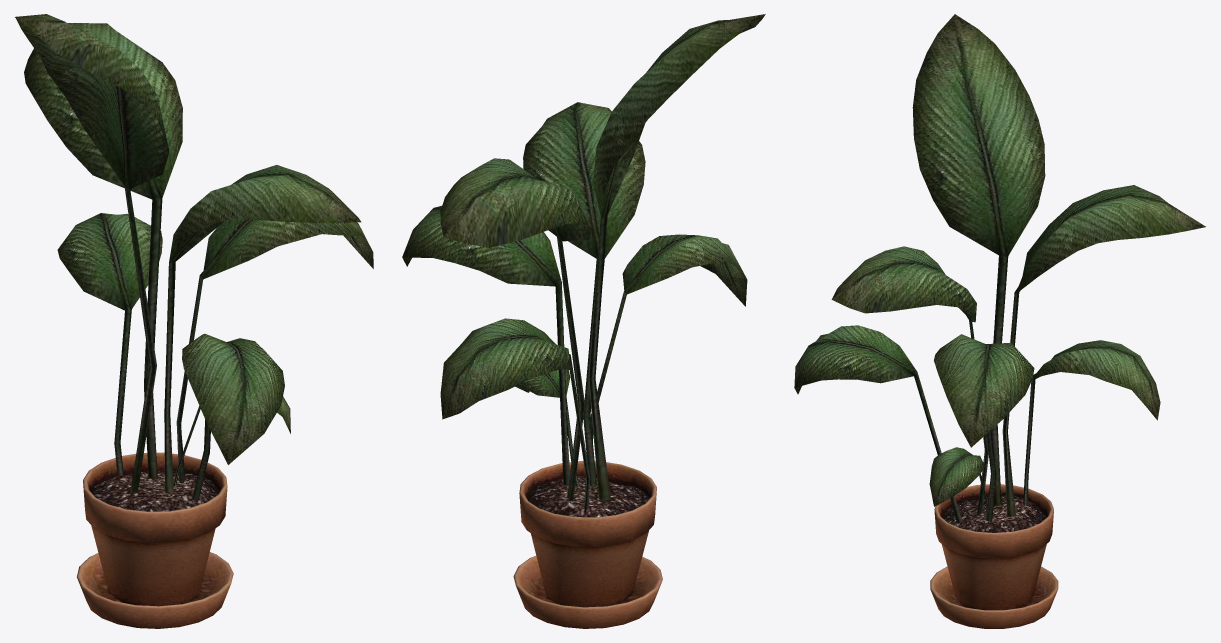
The model's file is plant01.glb.
The picture shows the model from 3 angles, left to right: view 1: azimuth 30°, elevation 25°; view 2: azimuth 150°, elevation 25°; view 3: azimuth 270°, elevation 25°; orthographic projection. The views are drawn at different scales.
Parts seen in each view (by area): view 1: 1_Plant02, 0_Plant01; view 2: 1_Plant02, 0_Plant01; view 3: 1_Plant02, 0_Plant01.
Boxes of the visible parts, <box> form: 1_Plant02: <box>15,14,373,502</box>; 0_Plant01: <box>77,452,233,628</box>; 1_Plant02: <box>402,14,765,512</box>; 0_Plant01: <box>513,461,662,628</box>; 1_Plant02: <box>794,14,1205,523</box>; 0_Plant01: <box>930,484,1058,628</box>.
Bounding box in the file's own units: 1.09 × 1.82 × 1.29.
2 materials, 2 textured.
